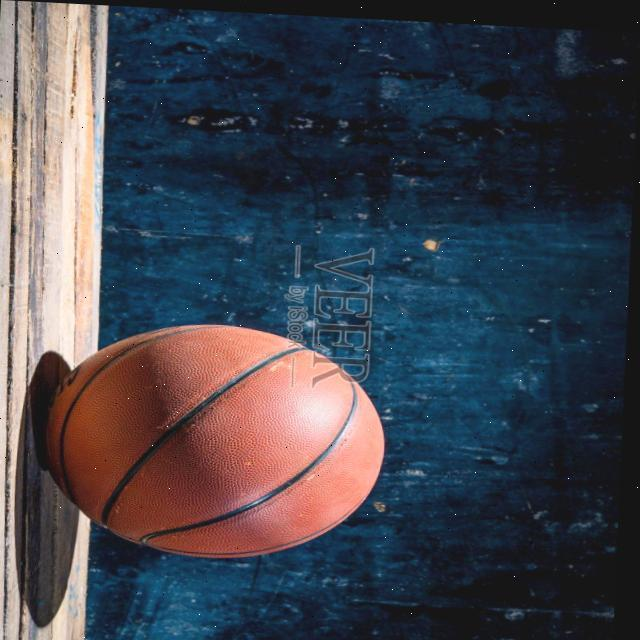Basketball: (42, 324, 385, 556)
